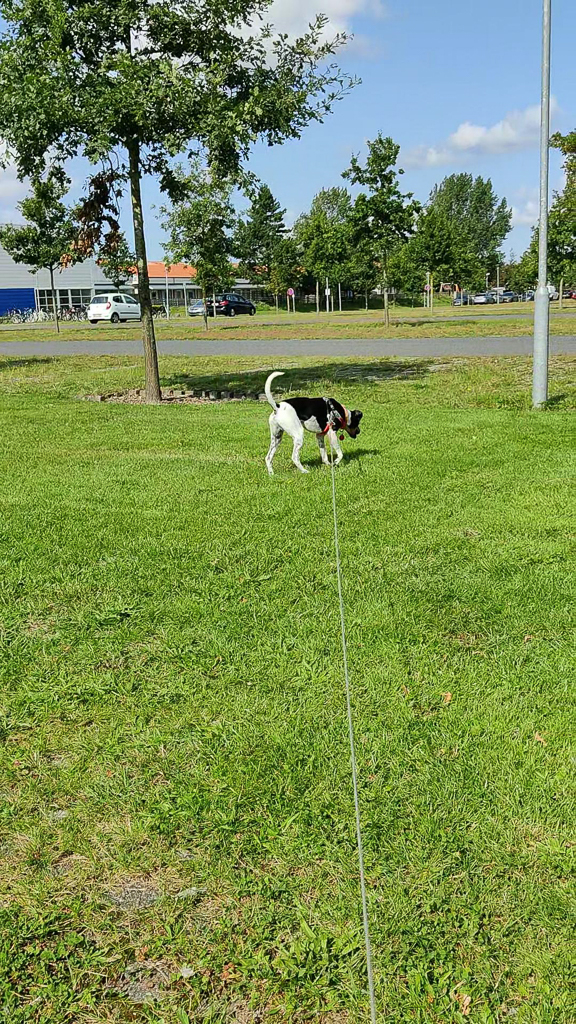Dog: (251, 364, 379, 489)
